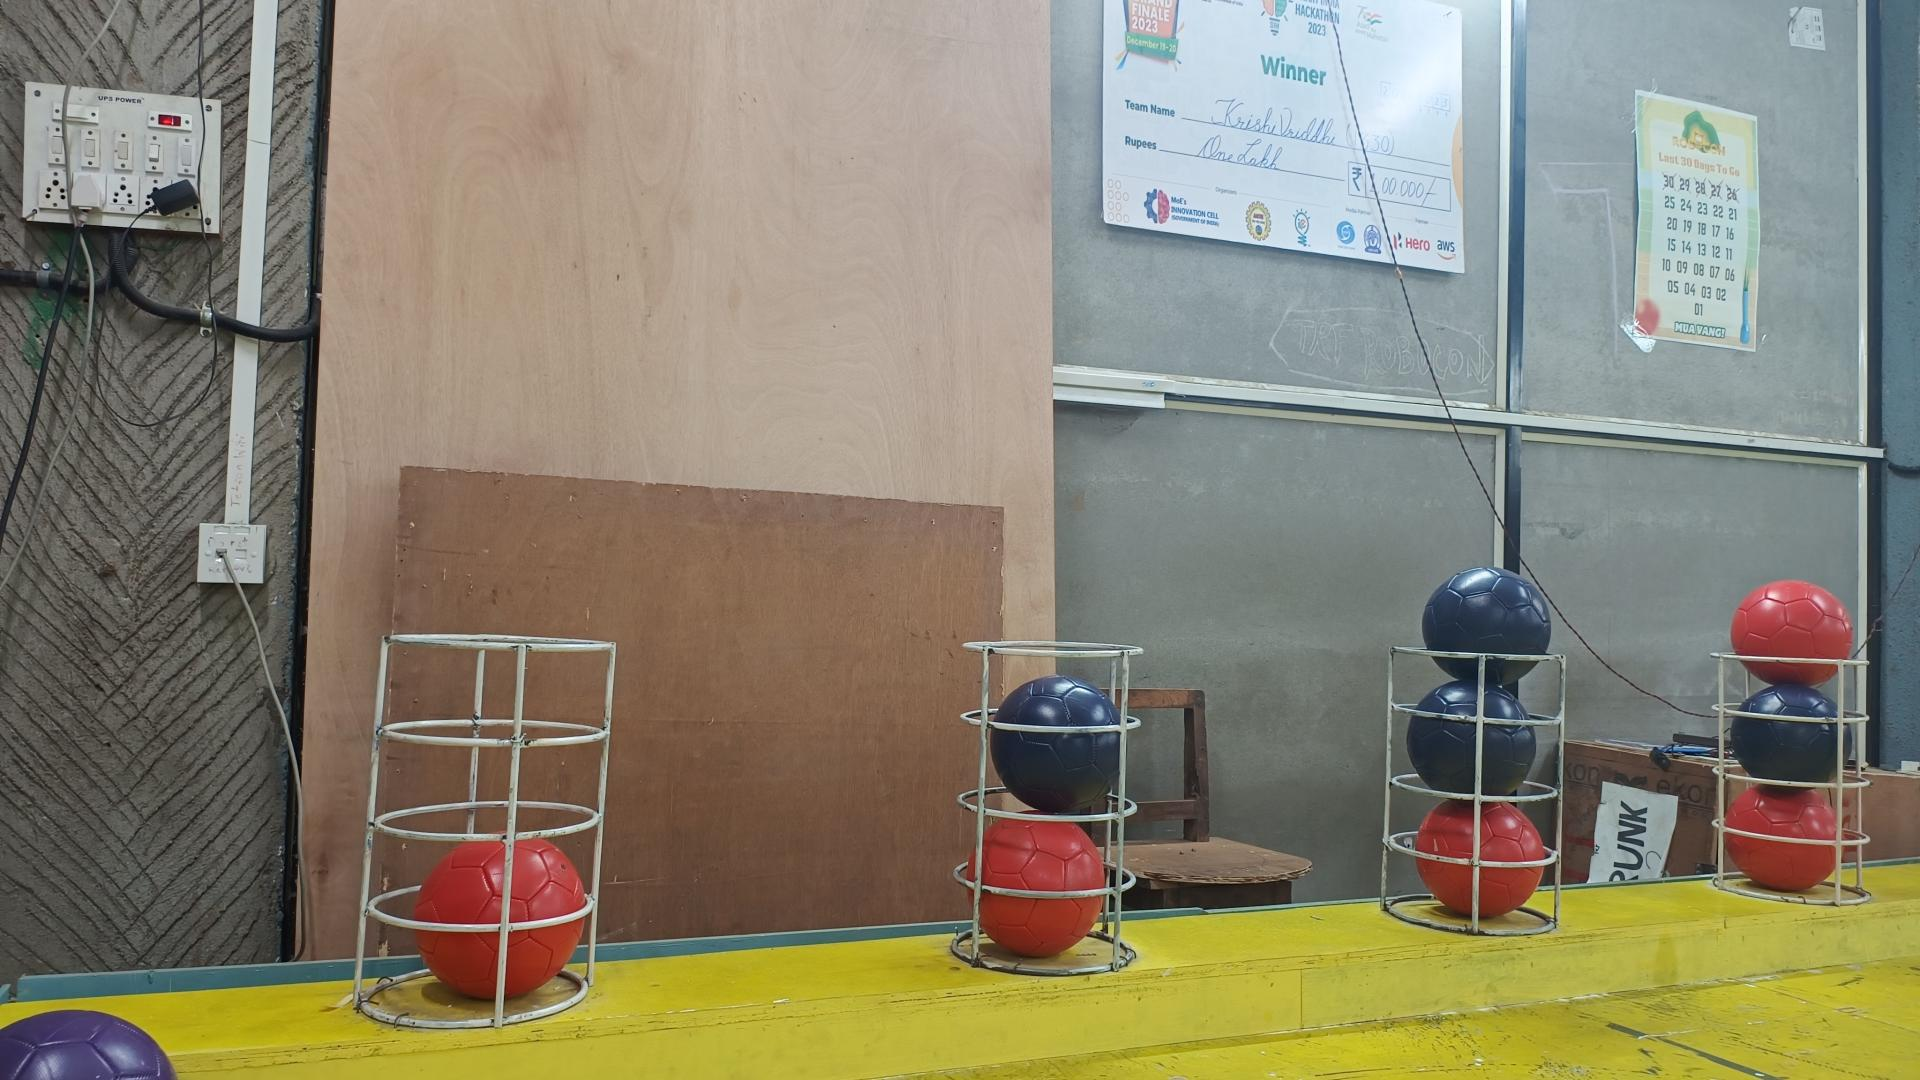dhoka: (990, 675, 1121, 814), (1422, 566, 1552, 690), (1406, 679, 1538, 795), (1729, 683, 1853, 783)
laale: (413, 836, 585, 1001), (964, 818, 1106, 956), (1414, 799, 1548, 919), (1725, 783, 1845, 893), (1729, 582, 1853, 686)
